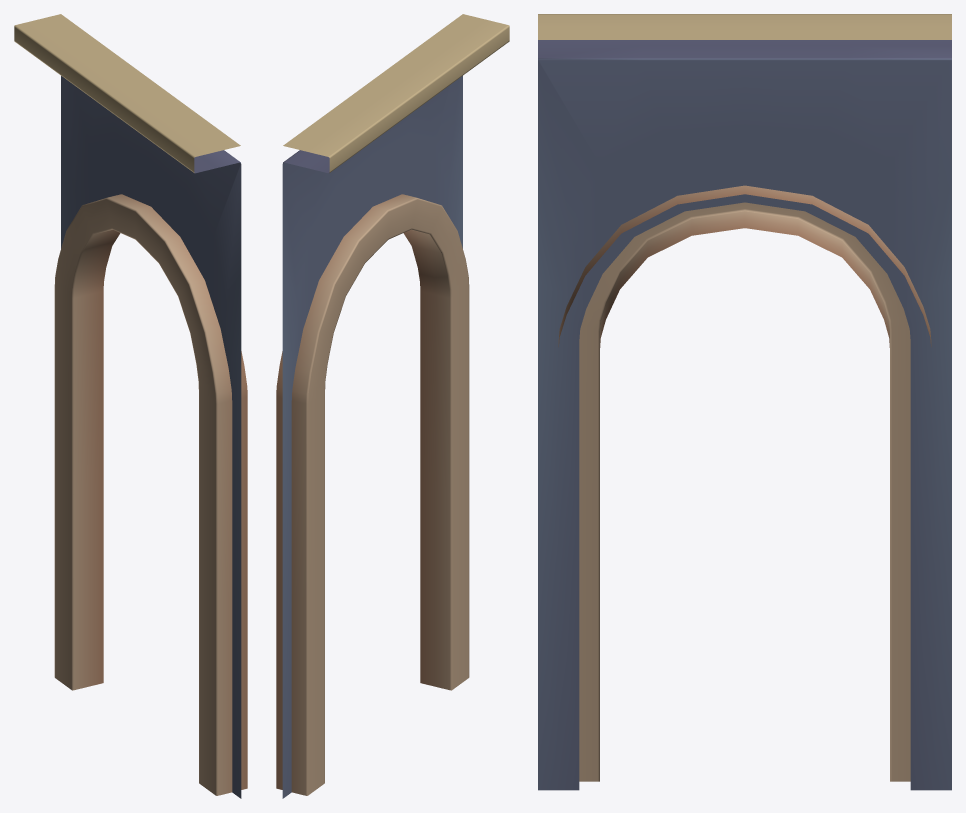
Rendered from Wall_doorframe.fbx.
3 renders of one model, left to right at view 1: azimuth 30°, elevation 25°; view 2: azimuth 150°, elevation 25°; view 3: azimuth 270°, elevation 25°, orthographic. The views are drawn at different scales.
Parts seen in each view (by area): view 1: Door_frame; view 2: Door_frame; view 3: Door_frame.
Part boxes in pixels (x1,y1,x2,y2): Door_frame: (14,14,247,798); Door_frame: (276,14,509,798); Door_frame: (538,14,951,790).
Size of the model in its own units: 40 by 400 by 200.
